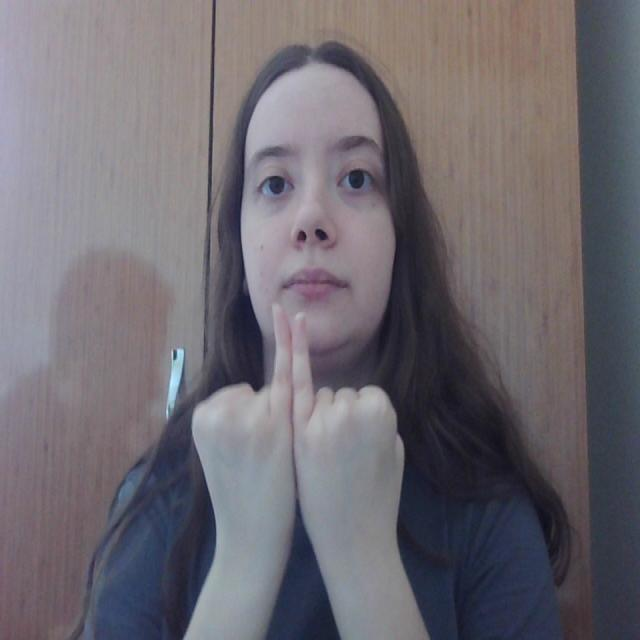Kardes: (188, 292, 416, 594)
